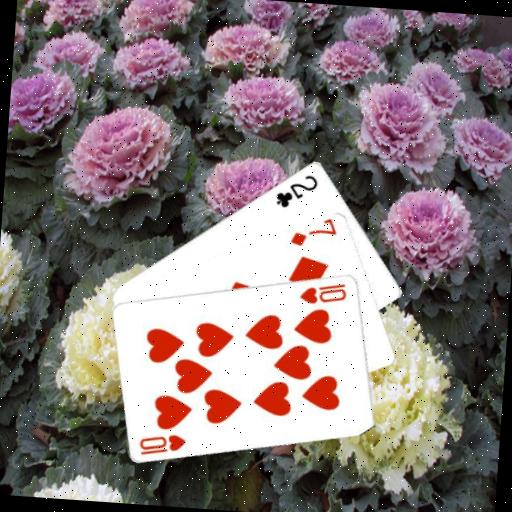10H: (136, 429, 188, 460), (296, 277, 349, 307)
2C: (271, 169, 320, 211)
7D: (287, 215, 340, 251)
